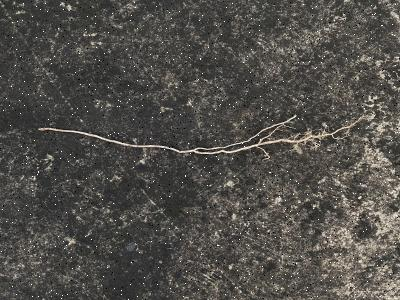Root: (39, 115, 363, 159)
